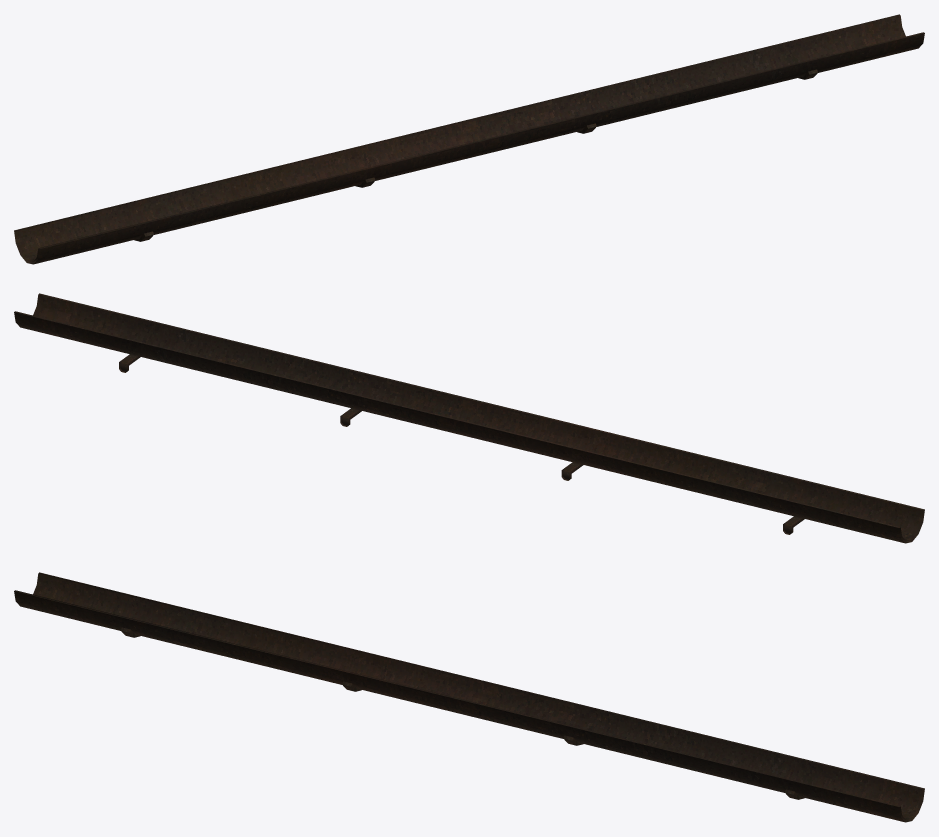
File: rainwater_pipe_hl_1_middle.glb
3 renders of one model, top to bottom at view 1: azimuth 30°, elevation 25°; view 2: azimuth 150°, elevation 25°; view 3: azimuth 330°, elevation 25°, orthographic.
Visible parts, largest first — view 1: rainwater_pipe_hl_1_middle; view 2: rainwater_pipe_hl_1_middle; view 3: rainwater_pipe_hl_1_middle.
Part boxes in pixels (box(x1,y1,x2,y2)): rainwater_pipe_hl_1_middle: box(14, 14, 924, 264); rainwater_pipe_hl_1_middle: box(14, 293, 924, 543); rainwater_pipe_hl_1_middle: box(14, 572, 924, 822).
Size of the model in its own units: 4 by 0.14 by 0.21.
Materials: 1 (1 with a texture image).
